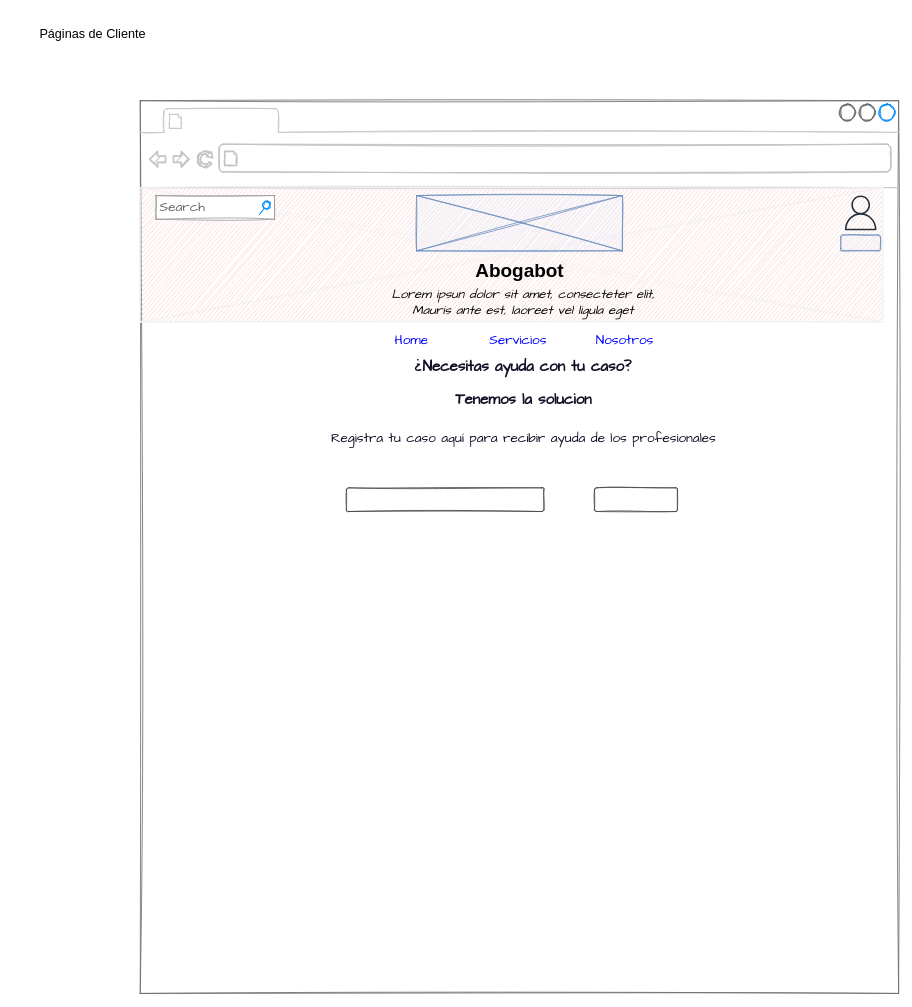
Image size: 912x1007. Some labels were removed from this diagram. The shapes that lost their labels are listed below. From the top down, each one's centre as x and y in pixels, then its label:
the point at 231,120: Page 1
the point at 341,158: https://www.abogabot.com
the point at 860,242: Login
